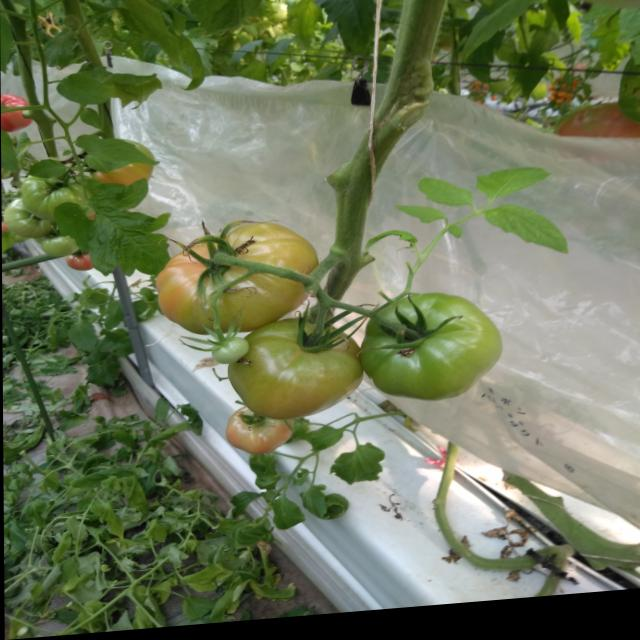yesil: (211, 303, 554, 439)
